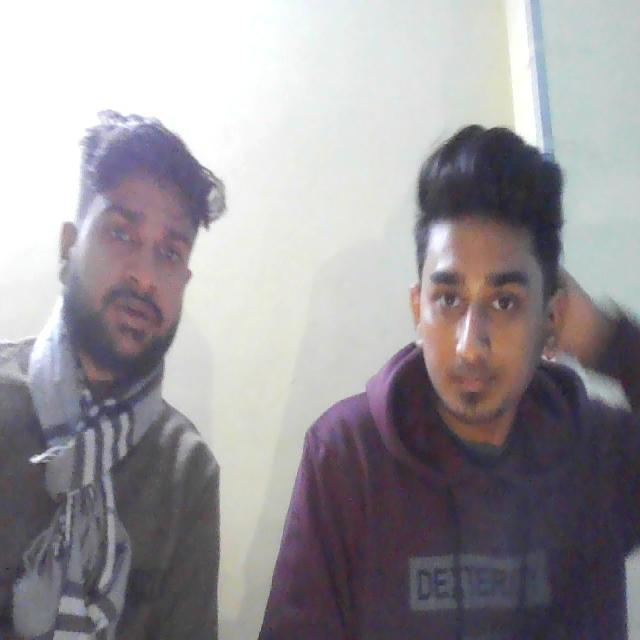real: (400, 138, 565, 450), (62, 113, 201, 376)
